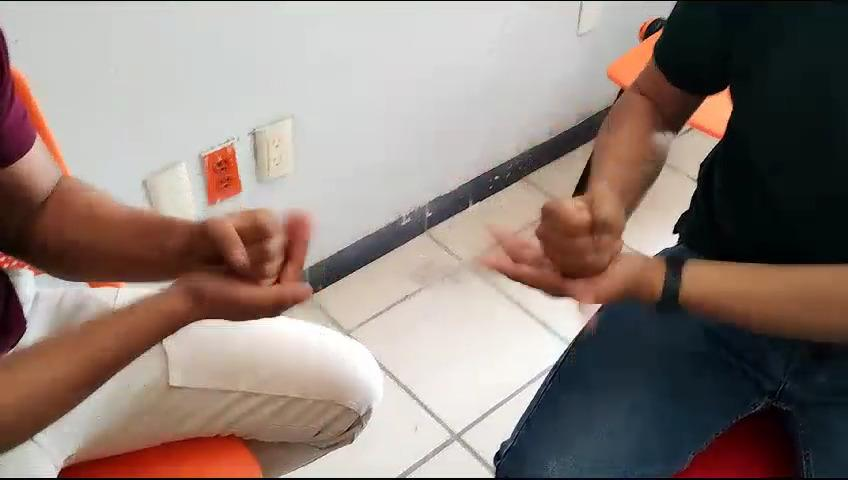Stone: (524, 175, 646, 296), (179, 190, 296, 312)
